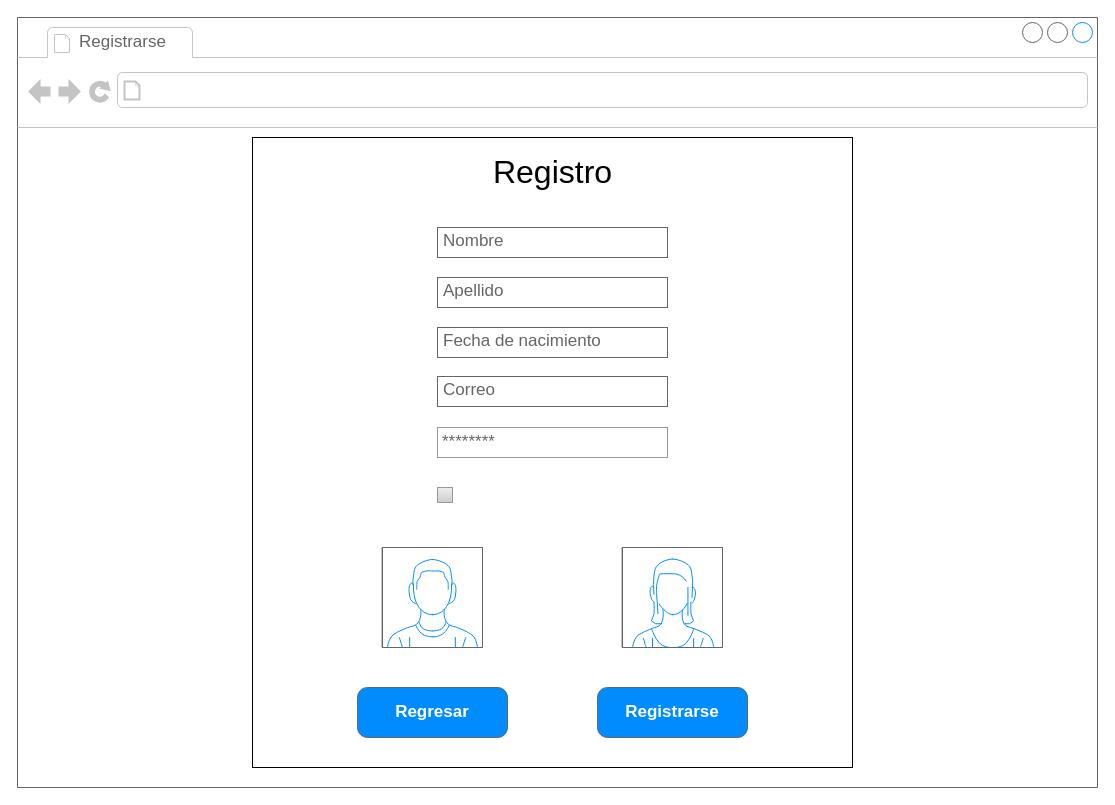
This 1115x805 diagram has some shape labels left out. The shapes that lost their labels are listed below. From the top down, each one's centre as x and y in pixels, then its label:
At pixel 272 90: "https://trivia-guatemala.com/registrarse".
At pixel 444 494: "Quiero recibir notificaciones por correo".
